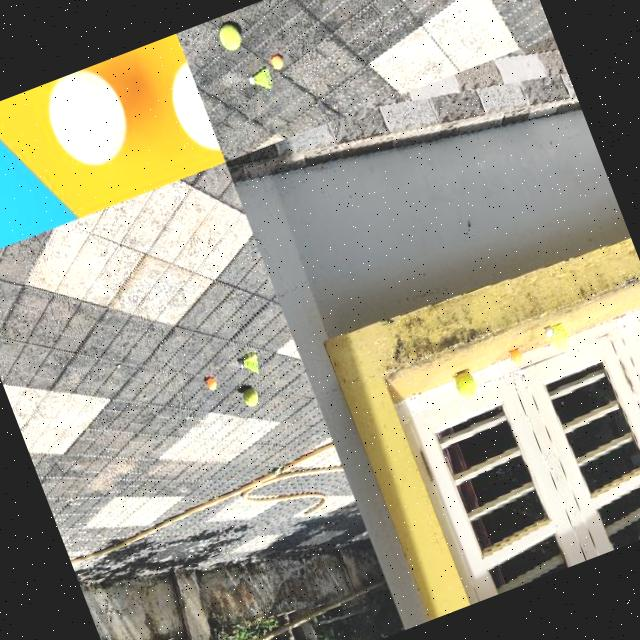ping-pong-ball: (507, 348, 523, 365), (270, 52, 284, 71), (205, 375, 219, 392)
